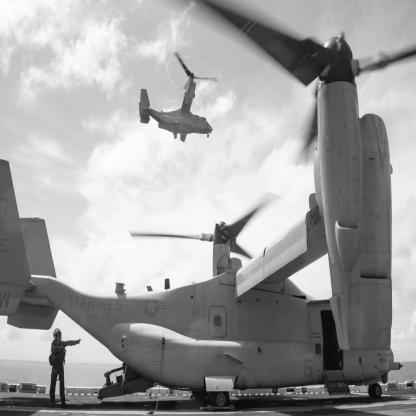V22: (2, 2, 416, 412), (140, 52, 219, 144)
